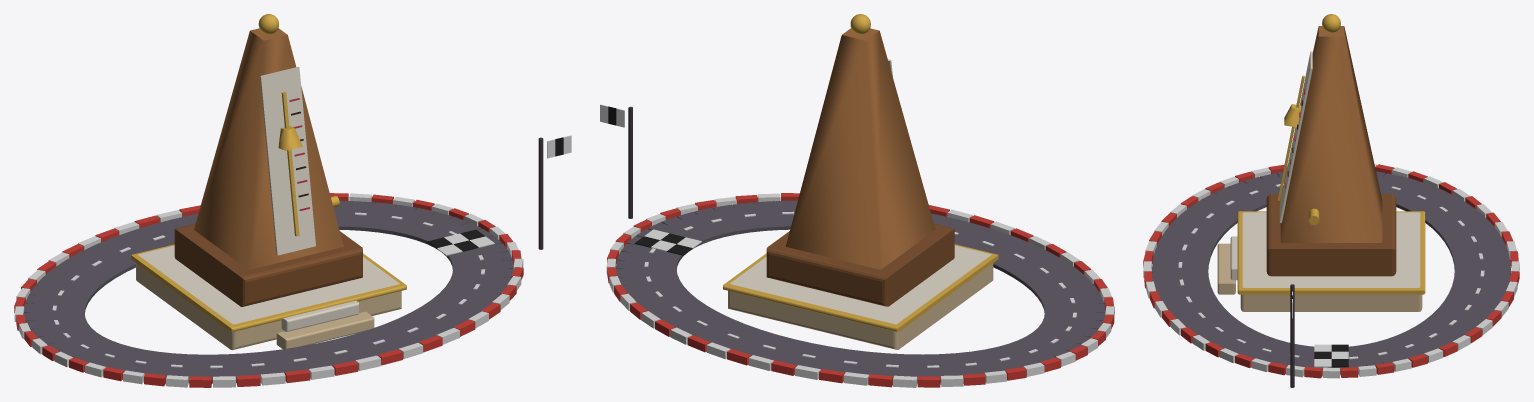
File: metronomeTower.glb
3 renders of one model, left to right at view 1: azimuth 30°, elevation 25°; view 2: azimuth 150°, elevation 25°; view 3: azimuth 270°, elevation 25°, orthographic. The views are drawn at different scales.
Parts seen in each view (by area): view 1: part_000, part_003; view 2: part_000; view 3: part_000, part_003.
Part boxes in pixels (x1,y1,x2,y2): part_000: [14, 14, 571, 387]; part_003: [278, 92, 302, 236]; part_000: [600, 14, 1114, 387]; part_000: [1143, 14, 1519, 387]; part_003: [1277, 75, 1304, 200].
Size of the model in its own units: 12.7 by 6.62 by 8.7.
